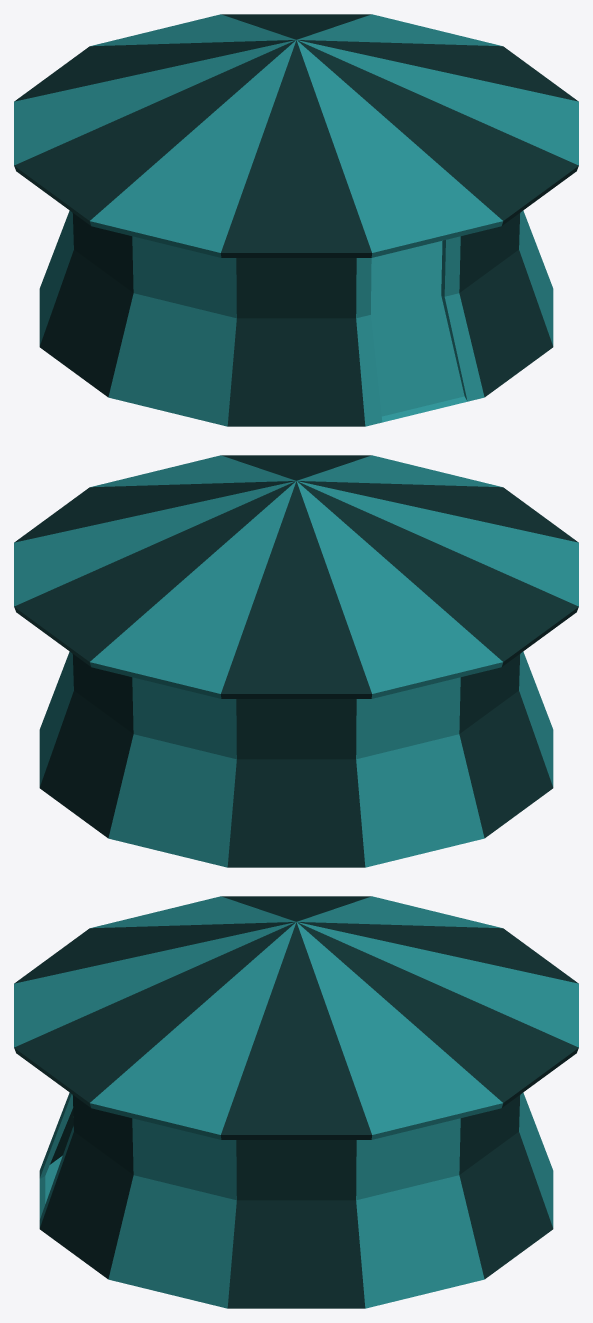
Rendered from Tent_5_Blue.fbx.
The picture shows the model from 3 angles, top to bottom: view 1: azimuth 30°, elevation 25°; view 2: azimuth 150°, elevation 25°; view 3: azimuth 270°, elevation 25°; orthographic projection.
Visible parts, largest first — view 1: Tent_5_Blue_Part_14, Tent_5_Blue_Part_3, Tent_5_Blue_Part_4, Tent_5_Blue_Part_13, Tent_5_Blue_Part_1, Tent_5_Blue_Part_5, Tent_5_Blue_Part_6, Tent_5_Blue_Part_12; view 2: Tent_5_Blue_Part_14, Tent_5_Blue_Part_7, Tent_5_Blue_Part_6, Tent_5_Blue_Part_8, Tent_5_Blue_Part_5, Tent_5_Blue_Part_9, Tent_5_Blue_Part_4, Tent_5_Blue_Part_10; view 3: Tent_5_Blue_Part_14, Tent_5_Blue_Part_11, Tent_5_Blue_Part_10, Tent_5_Blue_Part_12, Tent_5_Blue_Part_13, Tent_5_Blue_Part_9, Tent_5_Blue_Part_8, Tent_5_Blue_Part_3, Tent_5_Blue_Part_1.
Part boxes in pixels (x1,y1,x2,y2): Tent_5_Blue_Part_14: (14,14,578,257); Tent_5_Blue_Part_3: (227,258,382,426); Tent_5_Blue_Part_4: (108,236,236,426); Tent_5_Blue_Part_13: (441,213,553,401); Tent_5_Blue_Part_1: (371,240,467,422); Tent_5_Blue_Part_5: (39,213,133,396); Tent_5_Blue_Part_6: (39,210,73,345); Tent_5_Blue_Part_12: (519,210,553,345); Tent_5_Blue_Part_14: (14,455,578,698); Tent_5_Blue_Part_7: (227,699,365,867); Tent_5_Blue_Part_6: (356,677,484,867); Tent_5_Blue_Part_8: (108,677,236,867); Tent_5_Blue_Part_5: (459,654,553,837); Tent_5_Blue_Part_9: (39,654,133,837); Tent_5_Blue_Part_4: (519,651,553,786); Tent_5_Blue_Part_10: (39,651,73,786); Tent_5_Blue_Part_14: (14,896,578,1139); Tent_5_Blue_Part_11: (227,1140,365,1308); Tent_5_Blue_Part_10: (356,1118,484,1308); Tent_5_Blue_Part_12: (108,1118,236,1308); Tent_5_Blue_Part_13: (39,1095,133,1278); Tent_5_Blue_Part_9: (459,1095,553,1278); Tent_5_Blue_Part_8: (519,1092,553,1227); Tent_5_Blue_Part_3: (39,1092,73,1178); Tent_5_Blue_Part_1: (39,1155,62,1219).
Size of the model in its own units: 819 by 445 by 819.
